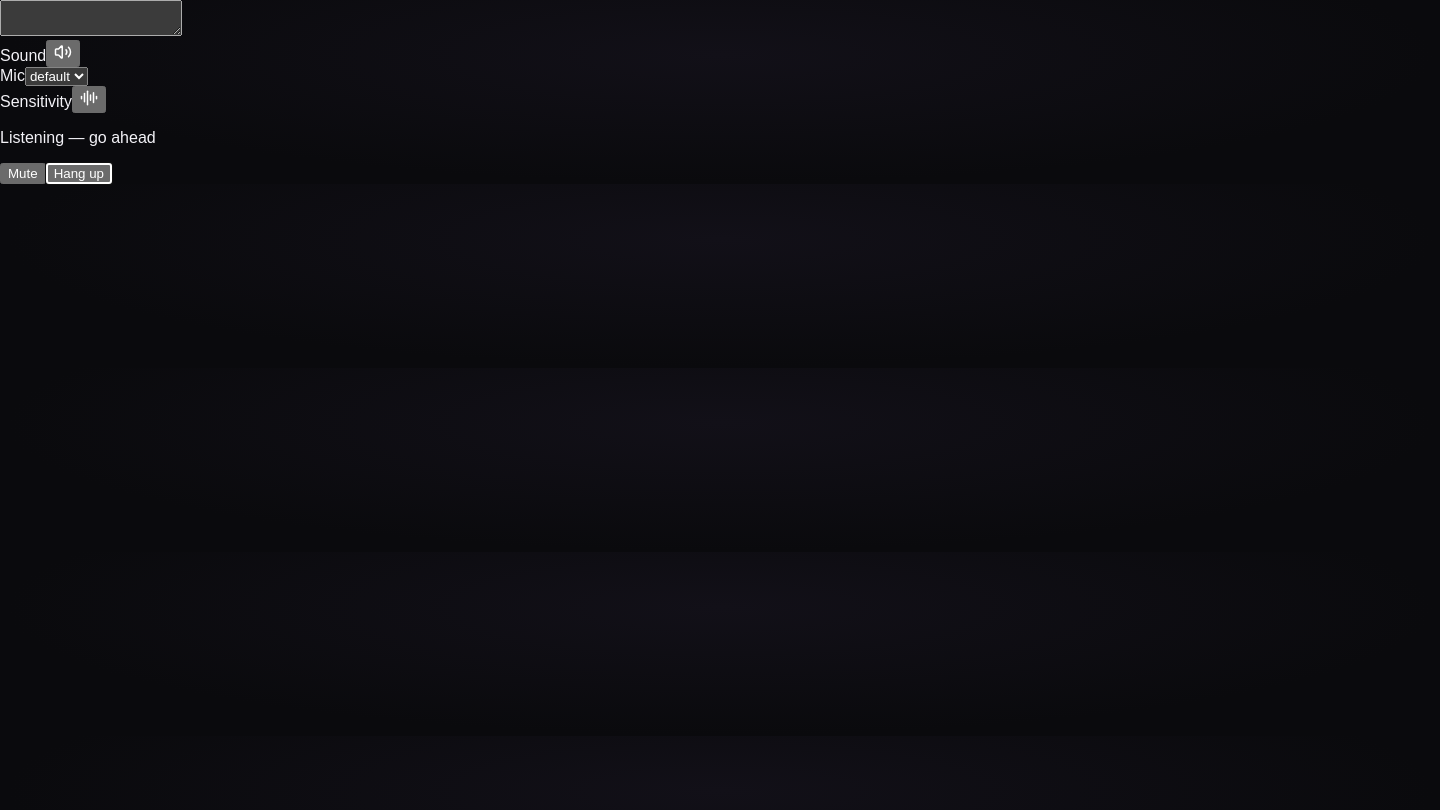
CallOverlay — the in-call route controls (D74 S2 · the D75 picker) › each row carries the bargain it strikes, and the footer stays (D76 §A)
Click the button named "Sound:": coordinates (63, 54) [46, 40, 80, 67]
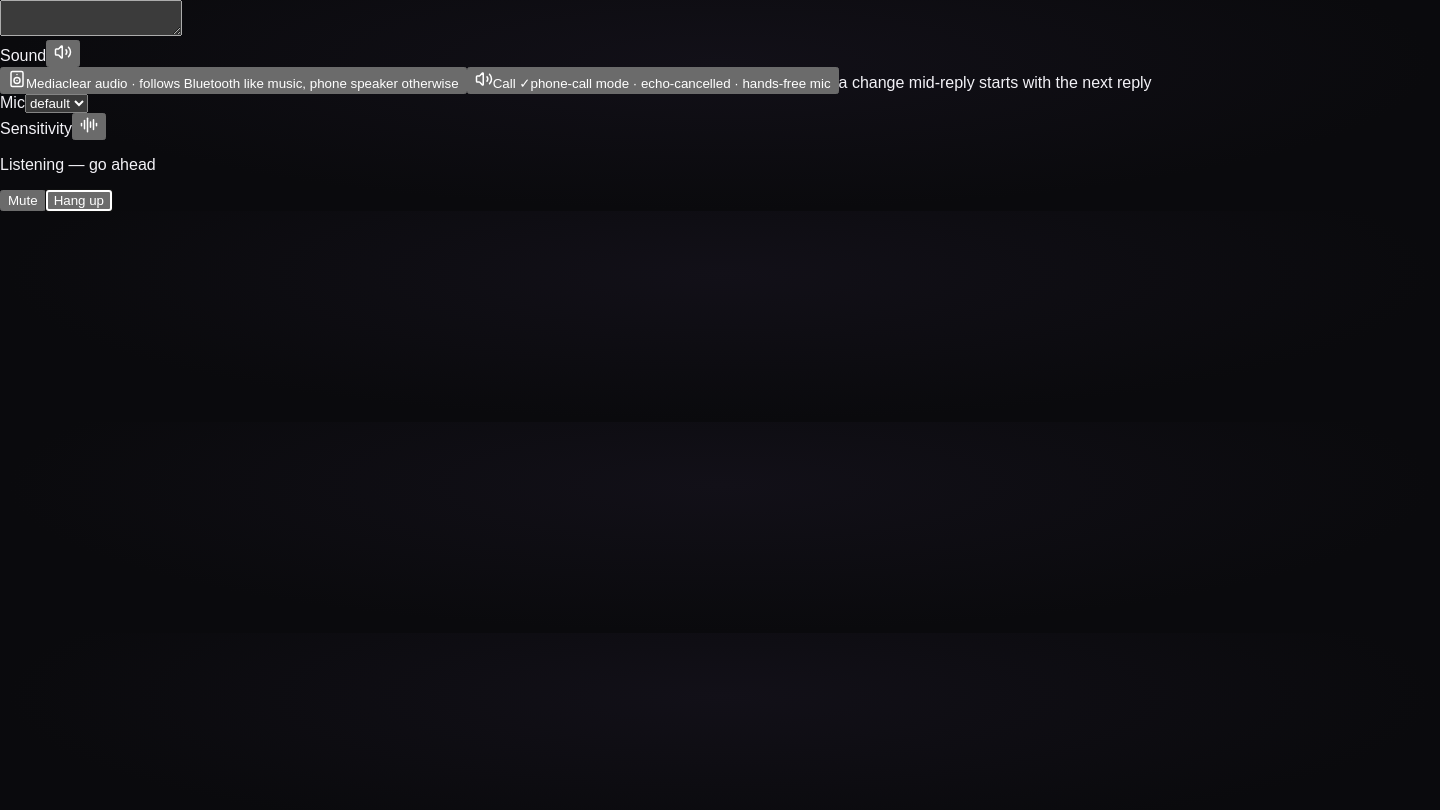
expect the menu item that starts with "Media" shows "follows Bluetooth like music, phone speaker otherwise": met, box [0, 67, 467, 94]
expect the menu item "Call ✓phone-call mode · echo-cancelled · hands-free mic" is shown: met, box [467, 67, 839, 94]
expect the text with class "kit-call-routefoot" reads "a change mid-reply starts with the next reply": met, box [839, 74, 1152, 91]
